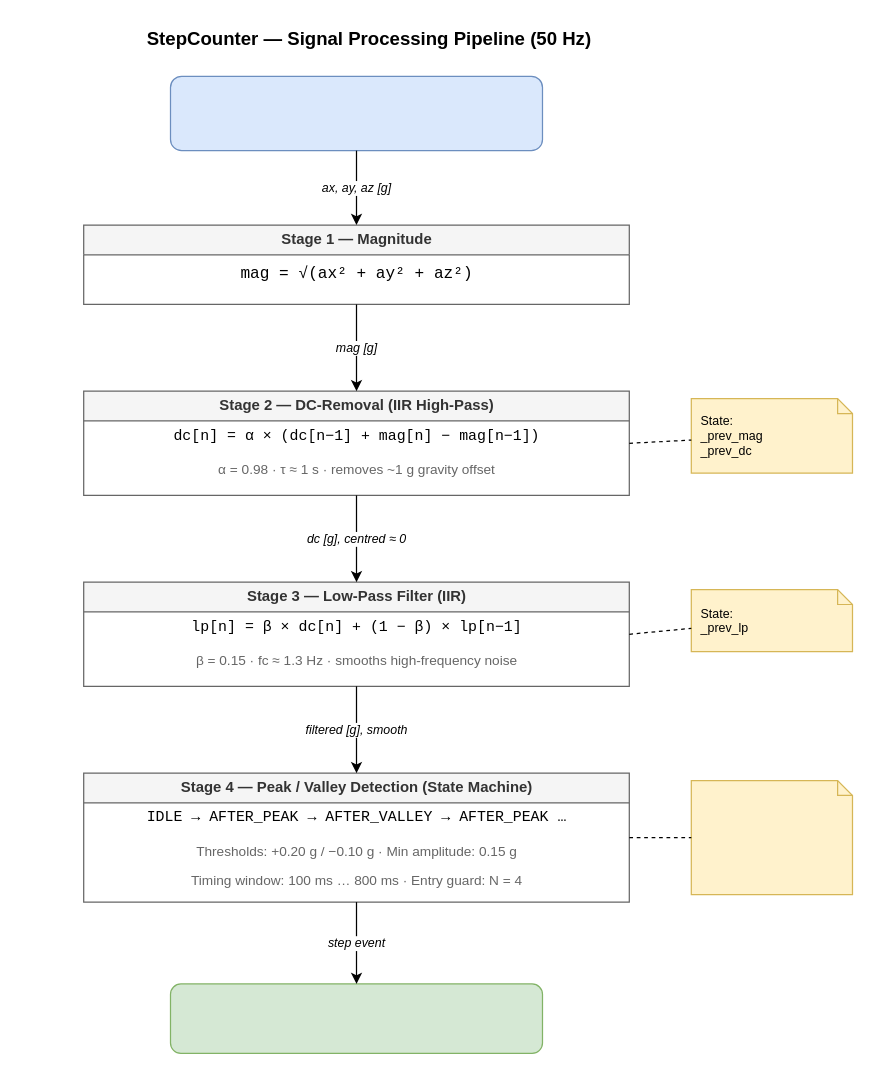
This 874x1075 diagram has some shape labels left out. Here are the shapes that lost their labels. From the top down, the centre of each, then its label:
At pixel 355 113: "QMI8658A Accelerometer @ 50 Hz (every 20 ms) ax, ay, az [g]".
At pixel 771 837: "State: _state _last_extremum _last_event_tick _entry_guard _steps, _tick".
At pixel 355 1018: "_steps++ → g_step_count (atomic) ui_update_steps() @ 1 Hz".
